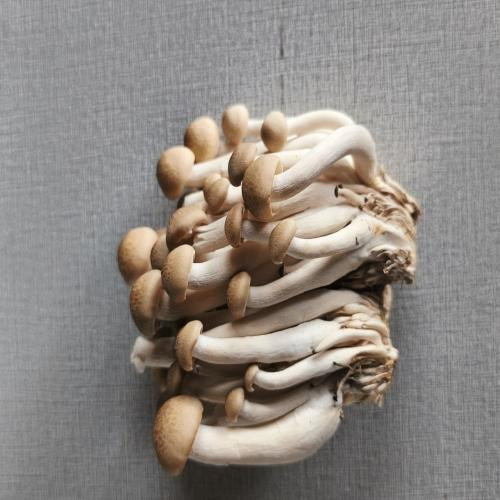Enoki Mushroom: (103, 88, 444, 478)
